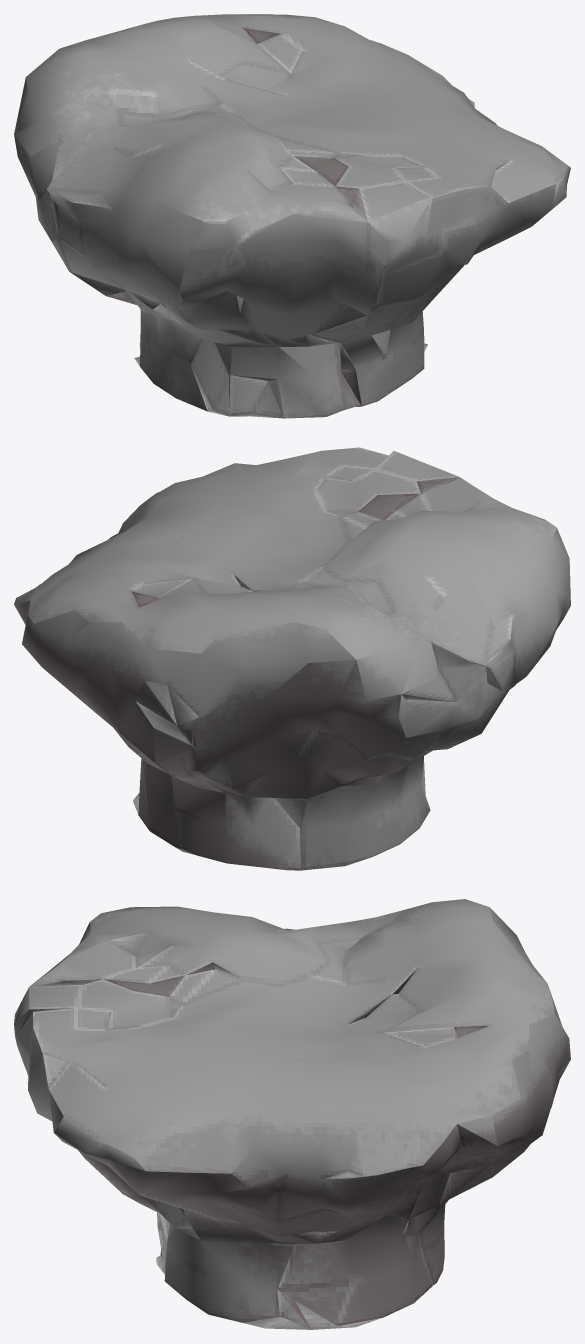
Rendered from wear_chef.glb.
The picture shows the model from 3 angles, top to bottom: view 1: azimuth 30°, elevation 25°; view 2: azimuth 150°, elevation 25°; view 3: azimuth 270°, elevation 25°; orthographic projection. The views are drawn at different scales.
Visible parts, largest first — view 1: mesh; view 2: mesh; view 3: mesh.
Boxes of the visible parts, x1,y1,x2,y2 form: mesh: [14, 14, 570, 418]; mesh: [14, 447, 570, 870]; mesh: [14, 899, 570, 1329].
Size of the model in its own units: 0.4002 by 0.25 by 0.4237.
Materials: 1 (1 with a texture image).
